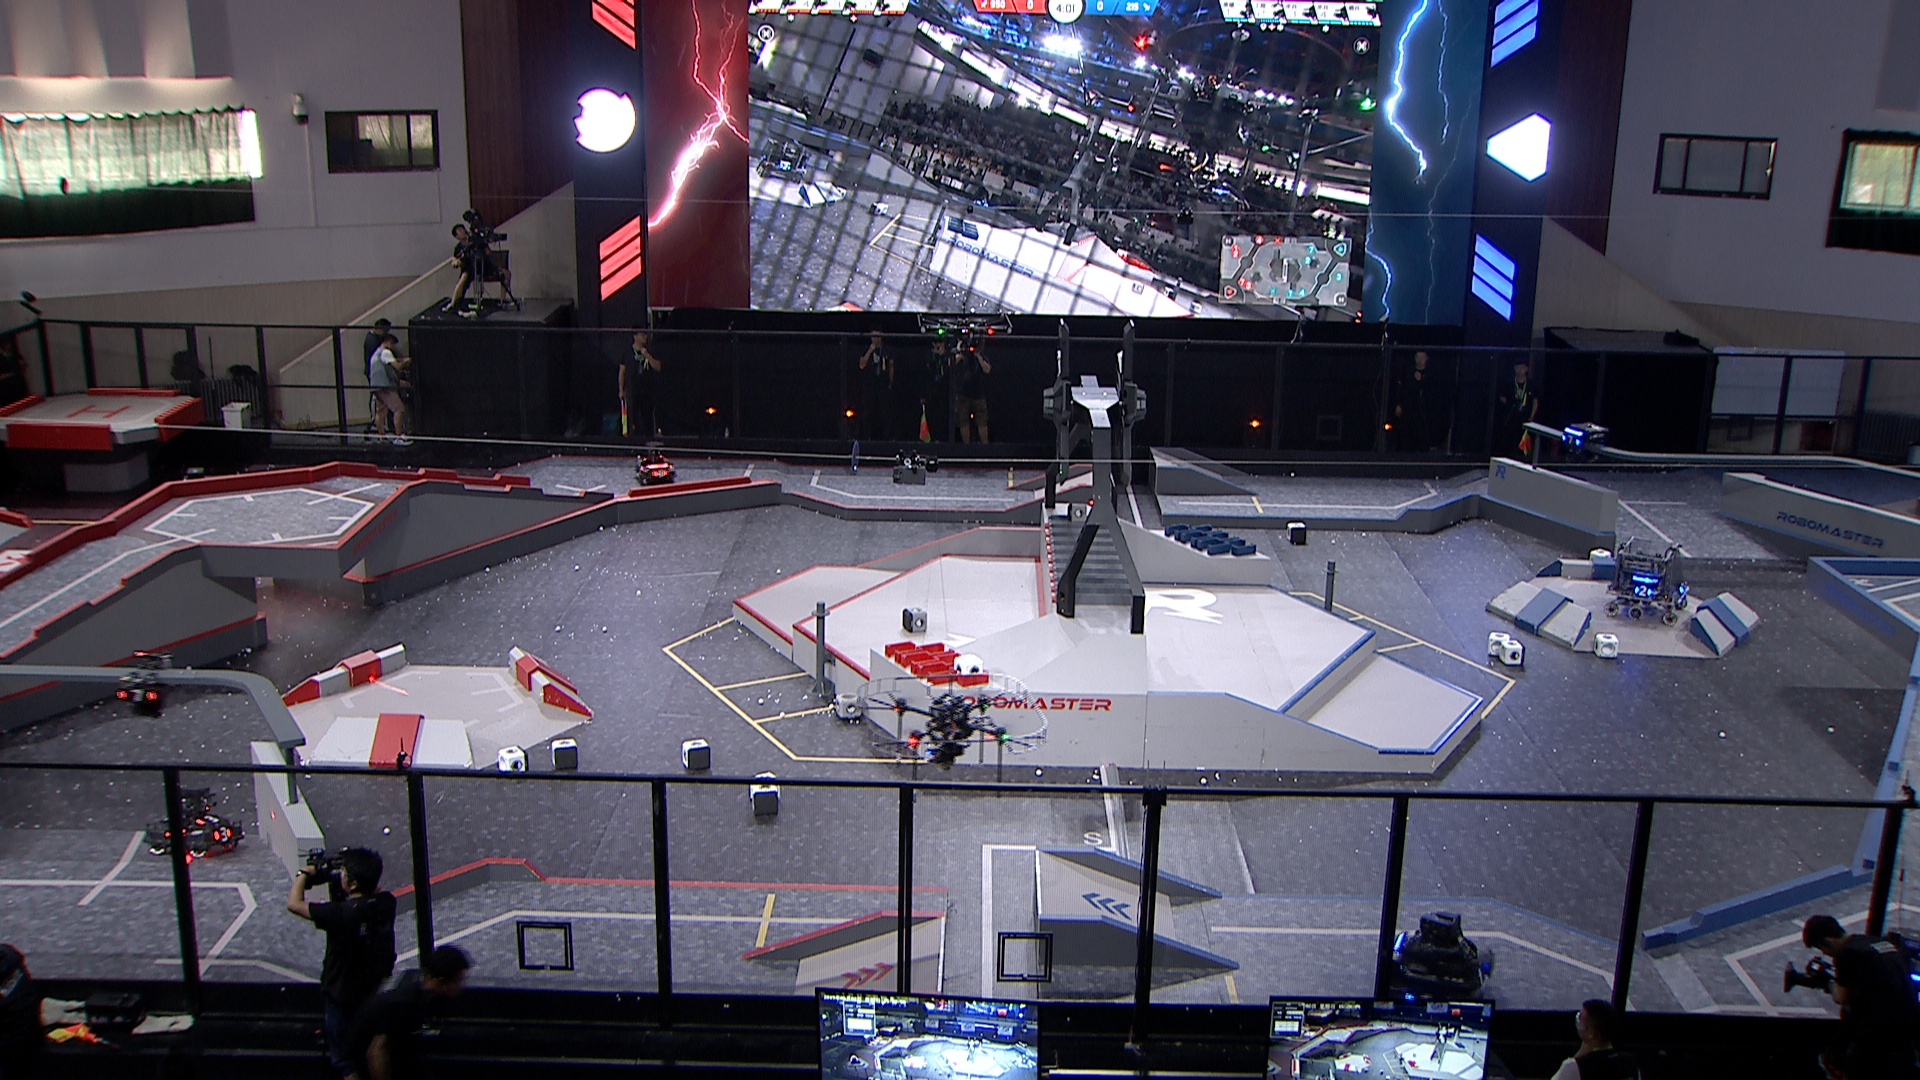armor: (117, 687, 160, 704), (1472, 963, 1491, 989), (193, 812, 224, 825), (211, 827, 235, 844), (1560, 433, 1584, 447), (1633, 584, 1654, 599), (651, 469, 669, 479)
car: (1385, 909, 1499, 1010), (1605, 535, 1693, 626), (141, 785, 247, 858), (1855, 926, 1920, 1011), (636, 439, 679, 487)
ignore: (754, 136, 808, 185)
watcher: (117, 651, 174, 717), (1557, 422, 1607, 462)
